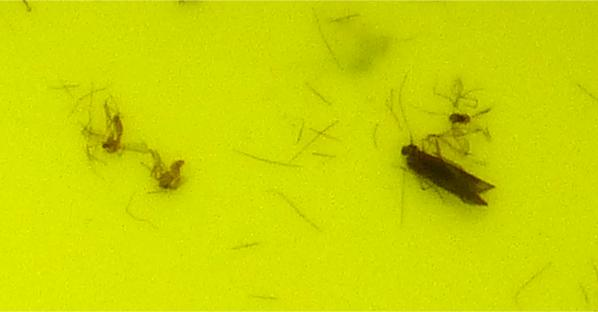Nematocera: (144, 147, 185, 195), (442, 100, 497, 132), (100, 103, 128, 154)
Trichoptera: (396, 133, 498, 212)
